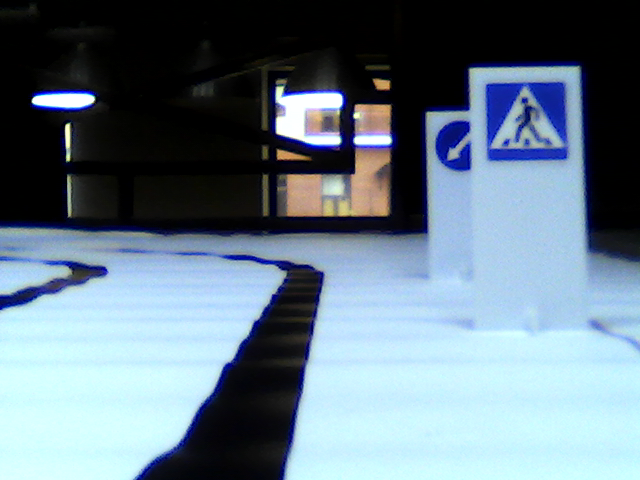pesh: (488, 82, 568, 158)
